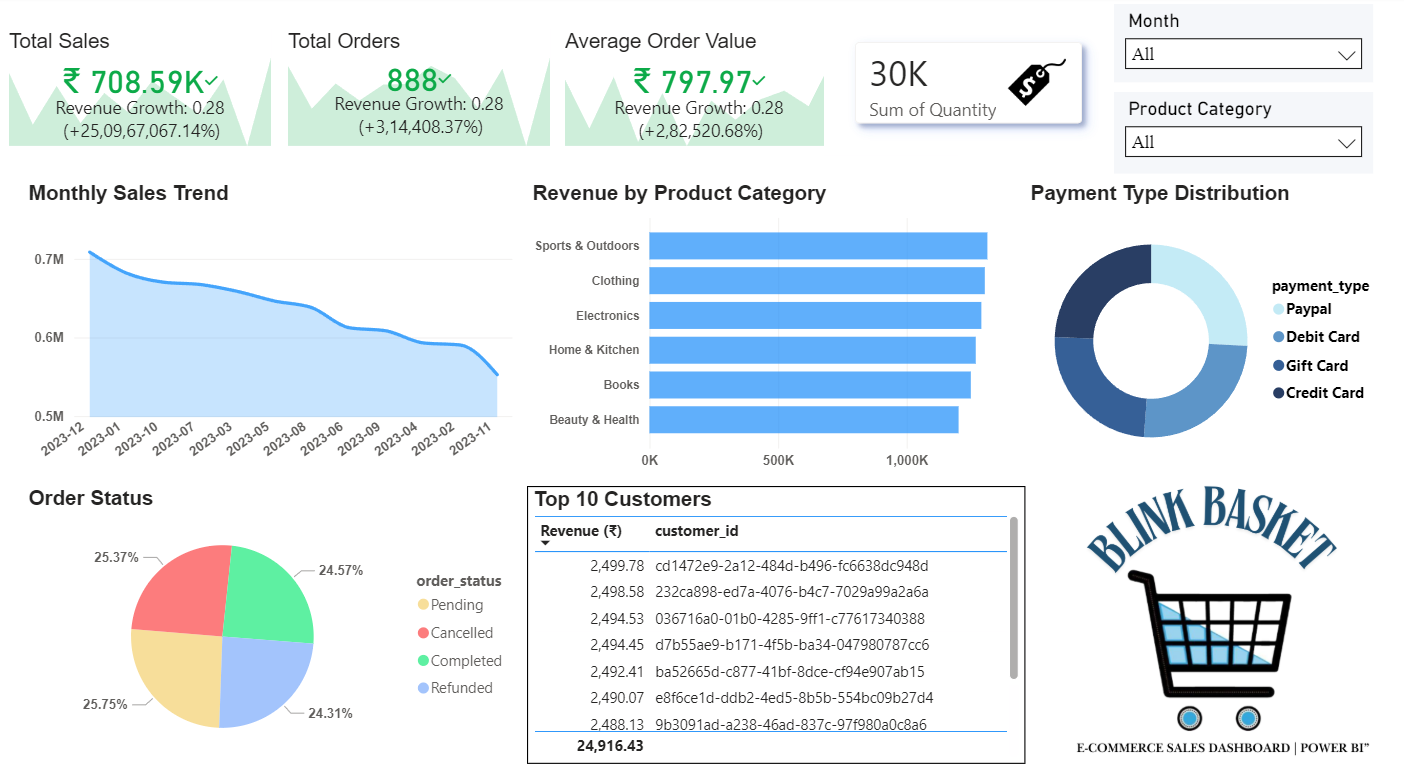

This screenshot's page, from the dashboard's own definition file:
{"tool":"powerbi","page":{"name":"Page 2","canvas":[1280,720],"ordinal":0},"visuals":[{"type":"kpi","title":"Total Sales","fields":{"Indicator":["DateTable.Total Sales"],"Goal":["DateTable.MoM % Change"],"TrendLine":["DateTable.Year-Month"]},"box":[8.2,29.9,237.6,106.1],"z":0},{"type":"slicer","fields":{"Values":["DateTable.Year-Month"]},"box":[1010,7.5,235,71.2],"z":1000},{"type":"kpi","title":"Average Order Value","fields":{"Indicator":["DateTable.Average Order Value"],"TrendLine":["DateTable.Year-Month"],"Goal":["DateTable.MoM % Change"]},"box":[512.3,29.9,243,106.1],"z":2000},{"type":"kpi","title":"Total Orders","fields":{"Indicator":["DateTable.Total Orders"],"TrendLine":["DateTable.Year-Month"],"Goal":["DateTable.MoM % Change"]},"box":[261.2,29.9,237.6,106.1],"z":3000},{"type":"cardVisual","fields":{"Data":["Sum(ecommerce.Quantity)"]},"box":[747.2,13.6,263,130.6],"z":4000},{"type":"lineChart","title":"Monthly Sales Trend","fields":{"Y":["DateTable.Total Sales"],"Category":["DateTable.Year-Month"]},"box":[21.2,167.3,448.5,269.1],"z":5000},{"type":"clusteredBarChart","title":"Revenue by Product Category","fields":{"Category":["ecommerce.product_category"],"Y":["DateTable.Total Sales"]},"box":[477.7,167.3,462.6,269.1],"z":6000},{"type":"slicer","fields":{"Values":["ecommerce.product_category"]},"box":[1010,87.5,235,73.8],"z":7000},{"type":"donutChart","title":"Payment Type Distribution","fields":{"Category":["ecommerce.payment_type"],"Y":["DateTable.Payment Sales"]},"box":[929.3,167.3,339.7,269.1],"z":8000},{"type":"pieChart","title":"Order Status","fields":{"Category":["ecommerce.order_status"],"Y":["DateTable.Total Orders"]},"box":[21.2,444.5,456.6,252],"z":9000},{"type":"tableEx","title":"Top 10 Customers","fields":{"Values":["DateTable.Customer Sales","ecommerce.customer_id"]},"box":[477.7,444.5,451.5,252],"z":10000},{"type":"image","box":[940.7,428.2,339.3,268.5],"z":11000},{"type":"image","box":[907.7,48.1,65.3,60.8],"z":11001}]}

Visuals, with their boxes in screenshot pixels (x1, y1, x2, y2), scaled from the page's 1280x720 canvas onto the 1404x775 screenshot:
"Total Sales" kpi: region(9, 32, 270, 146)
slicer - DateTable.Year-Month: region(1108, 8, 1366, 85)
"Average Order Value" kpi: region(562, 32, 828, 146)
"Total Orders" kpi: region(287, 32, 547, 146)
cardVisual - Sum(ecommerce.Quantity): region(820, 15, 1108, 155)
"Monthly Sales Trend" lineChart: region(23, 180, 515, 470)
"Revenue by Product Category" clusteredBarChart: region(524, 180, 1031, 470)
slicer - ecommerce.product_category: region(1108, 94, 1366, 174)
"Payment Type Distribution" donutChart: region(1019, 180, 1392, 470)
"Order Status" pieChart: region(23, 478, 524, 750)
"Top 10 Customers" tableEx: region(524, 478, 1019, 750)
image: region(1032, 461, 1403, 750)
image: region(996, 52, 1067, 117)
